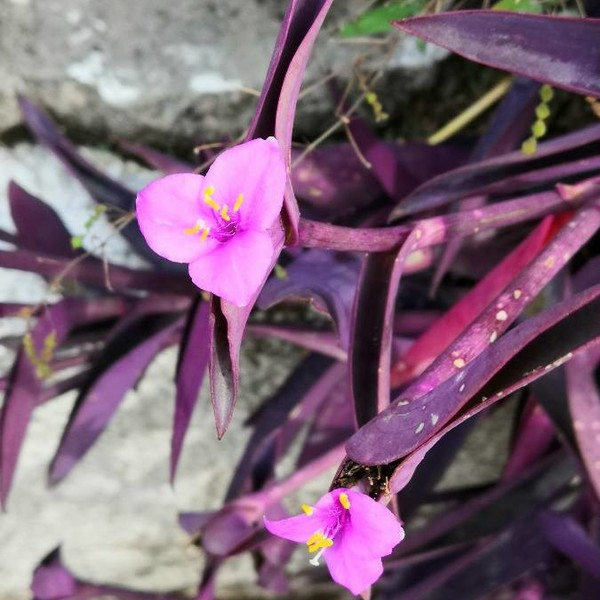obstacle: (26, 39, 541, 546)
